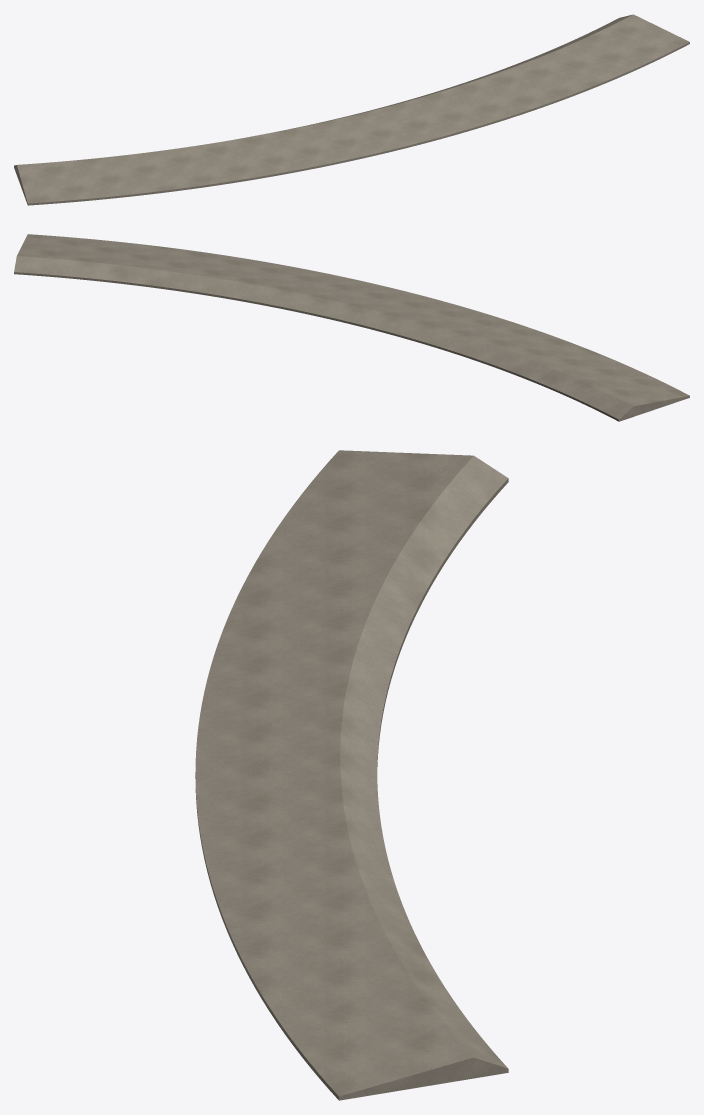
The model's file is ramp_2.glb.
3 views of the same model, one above another, from view 1: azimuth 30°, elevation 25°; view 2: azimuth 150°, elevation 25°; view 3: azimuth 270°, elevation 25° (orthographic). The views are drawn at different scales.
Visible parts, largest first — view 1: ramp_2_gravel_r; view 2: ramp_2_gravel_r; view 3: ramp_2_gravel_r.
Part boxes in pixels (left/top/right/bottom): ramp_2_gravel_r: left=14, top=14, right=689, bottom=205; ramp_2_gravel_r: left=14, top=234, right=689, bottom=421; ramp_2_gravel_r: left=195, top=450, right=508, bottom=1100.
Bounding box in the file's own units: 37 × 0.56 × 7.57.
Materials: 1 (1 with a texture image).
